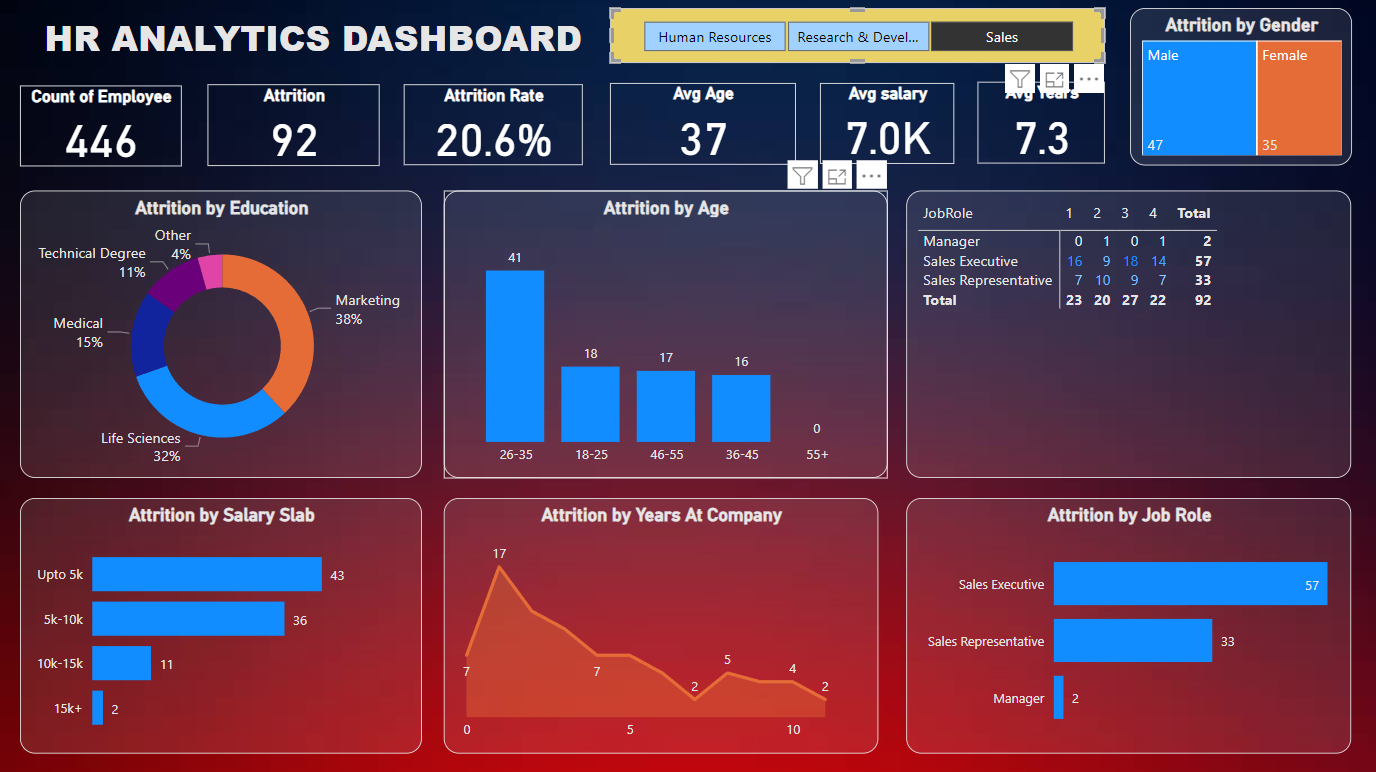

The dashboard page shown, as its layout file describes it:
{"tool":"powerbi","page":{"name":"Page 1","canvas":[1280,720],"ordinal":0},"visuals":[{"type":"card","title":"Count of Employee","fields":{"Values":["CountNonNull(HR_Analytics.EmpID)"]},"box":[18.8,81.2,150,75],"z":0},{"type":"card","title":"Attrition","fields":{"Values":["Sum(HR_Analytics.AttritionCount)"]},"box":[192.5,80,160,76.2],"z":1000},{"type":"card","title":"Avg Age","fields":{"Values":["Avg(HR_Analytics.Age)"]},"box":[567.5,78.8,172.5,76.2],"z":2000},{"type":"card","title":"Attrition Rate","fields":{"Values":["HR_Analytics.AttritionRate"]},"box":[375,80,166.2,75],"z":3000},{"type":"card","title":"Avg salary","fields":{"Values":["Avg(HR_Analytics.MonthlyIncome)"]},"box":[762.5,78.8,125,75],"z":4000},{"type":"card","title":"Avg Years","fields":{"Values":["Avg(HR_Analytics.YearsAtCompany)"]},"box":[908.8,77.5,118.8,76.2],"z":5000},{"type":"donutChart","title":"Attrition by Education","fields":{"Category":["HR_Analytics.EducationField"],"Y":["Sum(HR_Analytics.AttritionCount)"]},"box":[18.8,178.8,373.8,267.5],"z":6000},{"type":"columnChart","title":"Attrition by Age","fields":{"Category":["HR_Analytics.AgeGroup"],"Y":["Sum(HR_Analytics.AttritionCount)"]},"box":[412.5,178.8,412.5,267.5],"z":7000},{"type":"pivotTable","fields":{"Rows":["HR_Analytics.JobRole"],"Columns":["HR_Analytics.JobSatisfaction"],"Values":["Sum(HR_Analytics.AttritionCount)"]},"box":[842.5,178.8,413.8,267.5],"z":8000},{"type":"barChart","title":"Attrition by Job Role","fields":{"Category":["HR_Analytics.JobRole"],"Y":["Sum(HR_Analytics.AttritionCount)"]},"box":[842.5,465,413.8,237.5],"z":9000},{"type":"barChart","title":"Attrition by Salary Slab","fields":{"Category":["HR_Analytics.SalarySlab"],"Y":["Sum(HR_Analytics.AttritionCount)"]},"box":[18.8,465,373.8,237.5],"z":9001},{"type":"areaChart","title":"Attrition by Years At Company","fields":{"Category":["HR_Analytics.YearsAtCompany"],"Y":["Sum(HR_Analytics.AttritionCount)"]},"box":[412.5,465,403.8,237.5],"z":9002},{"type":"treemap","title":"Attrition by Gender","fields":{"Group":["HR_Analytics.Gender"],"Values":["Sum(HR_Analytics.AttritionCount)"]},"box":[1050,8.8,206.2,146.2],"z":9003},{"type":"slicer","fields":{"Values":["HR_Analytics.Department"]},"box":[567.5,8.8,460,51.2],"z":9004},{"type":"textbox","box":[18.8,8.8,576.2,61.2],"z":9005}]}

Visuals, with their boxes in screenshot pixels (x1, y1, x2, y2), scaled from the page's 1280x720 canvas onto the 1376x772 screenshot:
"Count of Employee" card: <box>20,87,181,167</box>
"Attrition" card: <box>207,86,379,167</box>
"Avg Age" card: <box>610,84,796,166</box>
"Attrition Rate" card: <box>403,86,582,166</box>
"Avg salary" card: <box>820,84,954,165</box>
"Avg Years" card: <box>977,83,1105,165</box>
"Attrition by Education" donutChart: <box>20,192,422,479</box>
"Attrition by Age" columnChart: <box>443,192,887,479</box>
pivotTable - HR_Analytics.JobRole x HR_Analytics.JobSatisfaction: <box>906,192,1351,479</box>
"Attrition by Job Role" barChart: <box>906,499,1351,753</box>
"Attrition by Salary Slab" barChart: <box>20,499,422,753</box>
"Attrition by Years At Company" areaChart: <box>443,499,878,753</box>
"Attrition by Gender" treemap: <box>1129,9,1350,166</box>
slicer - HR_Analytics.Department: <box>610,9,1105,64</box>
textbox: <box>20,9,640,75</box>
